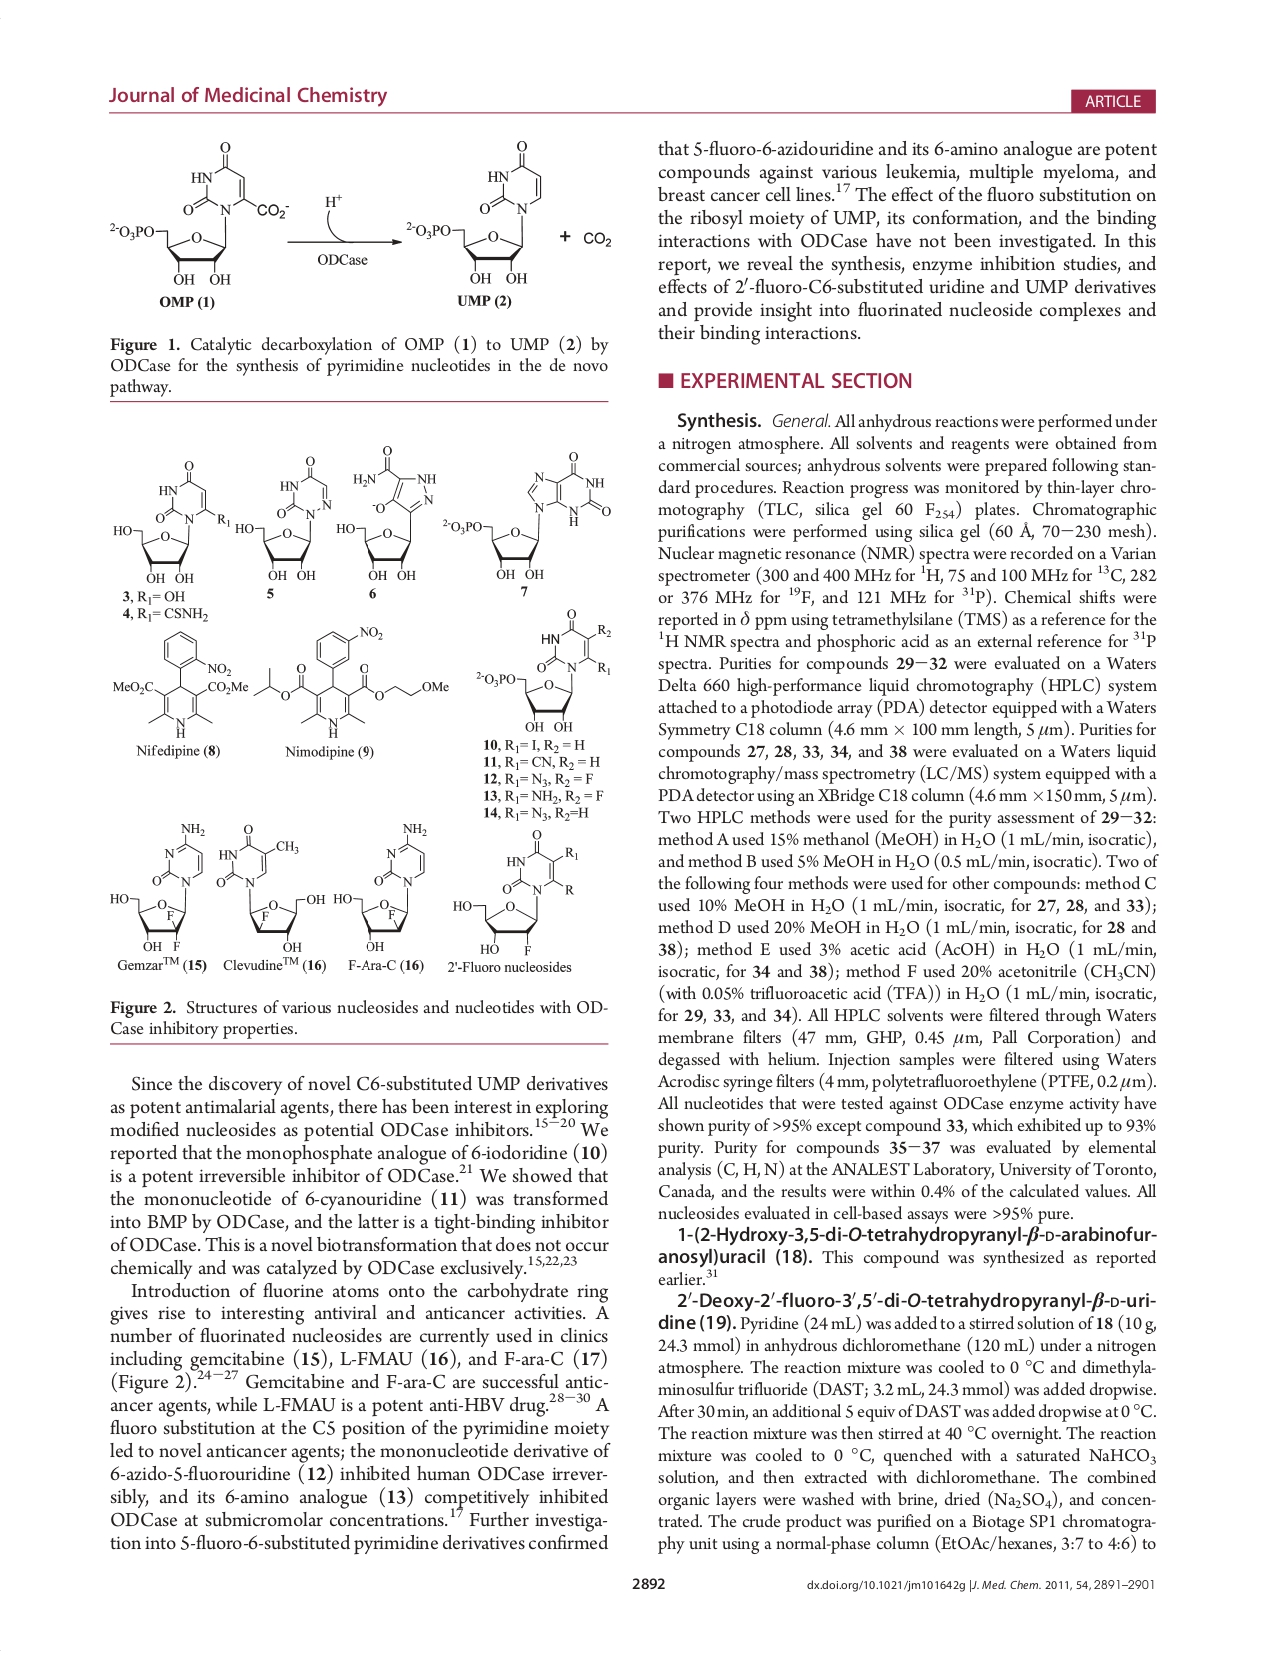exist_molecular: (105, 138, 289, 290), (251, 624, 453, 739), (442, 449, 616, 582), (406, 140, 548, 293), (473, 606, 614, 735), (449, 826, 582, 958), (108, 626, 251, 738), (108, 457, 231, 586), (330, 442, 442, 584), (211, 823, 324, 954), (332, 819, 431, 954), (231, 455, 332, 585), (106, 821, 205, 952)
